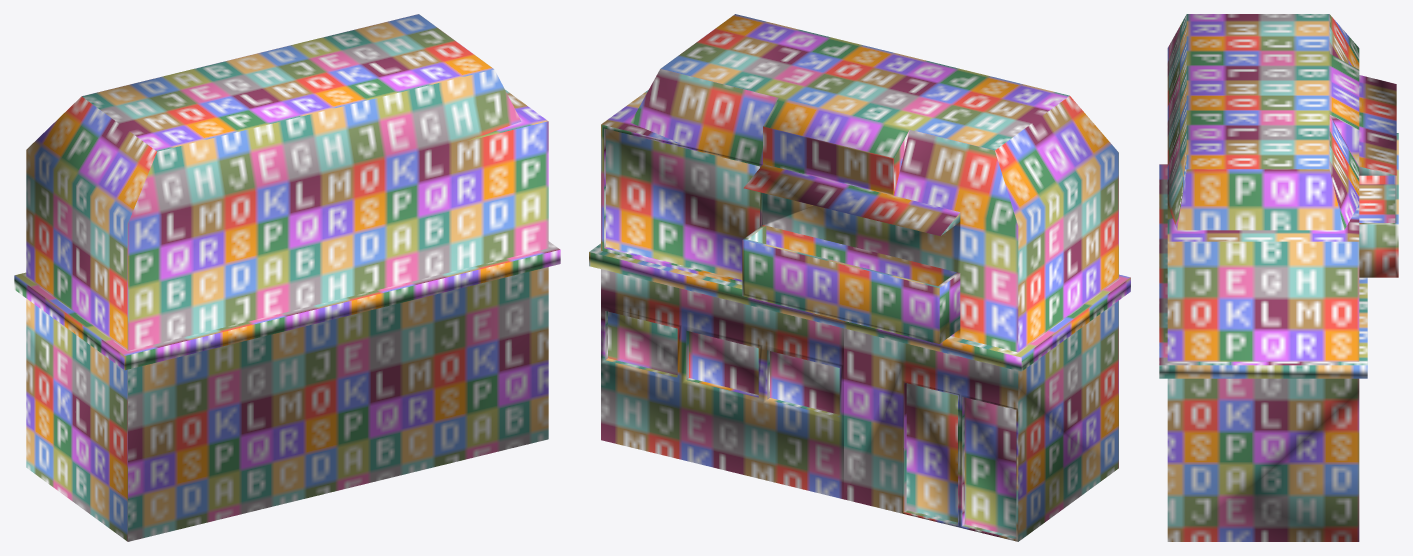
The model's file is building_14.obj.
3 renders of one model, left to right at view 1: azimuth 30°, elevation 25°; view 2: azimuth 150°, elevation 25°; view 3: azimuth 270°, elevation 25°, orthographic. The views are drawn at different scales.
Visible parts, largest first — view 1: Cube3_copy16_Cube3_copy16_auv; view 2: Cube3_copy16_Cube3_copy16_auv; view 3: Cube3_copy16_Cube3_copy16_auv.
Boxes of the visible parts, bbox=[...] form: Cube3_copy16_Cube3_copy16_auv: bbox=[14, 14, 560, 541]; Cube3_copy16_Cube3_copy16_auv: bbox=[589, 14, 1130, 541]; Cube3_copy16_Cube3_copy16_auv: bbox=[1159, 14, 1398, 541].
Size of what is drawn, in the model's own units: 679 by 556 by 342.
1 material, 1 textured.
